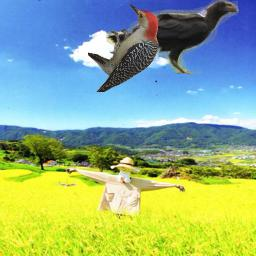Crow: (106, 0, 239, 74)
Woodpecker: (88, 3, 161, 92)
